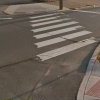crosswalk: (29, 11, 95, 60)
